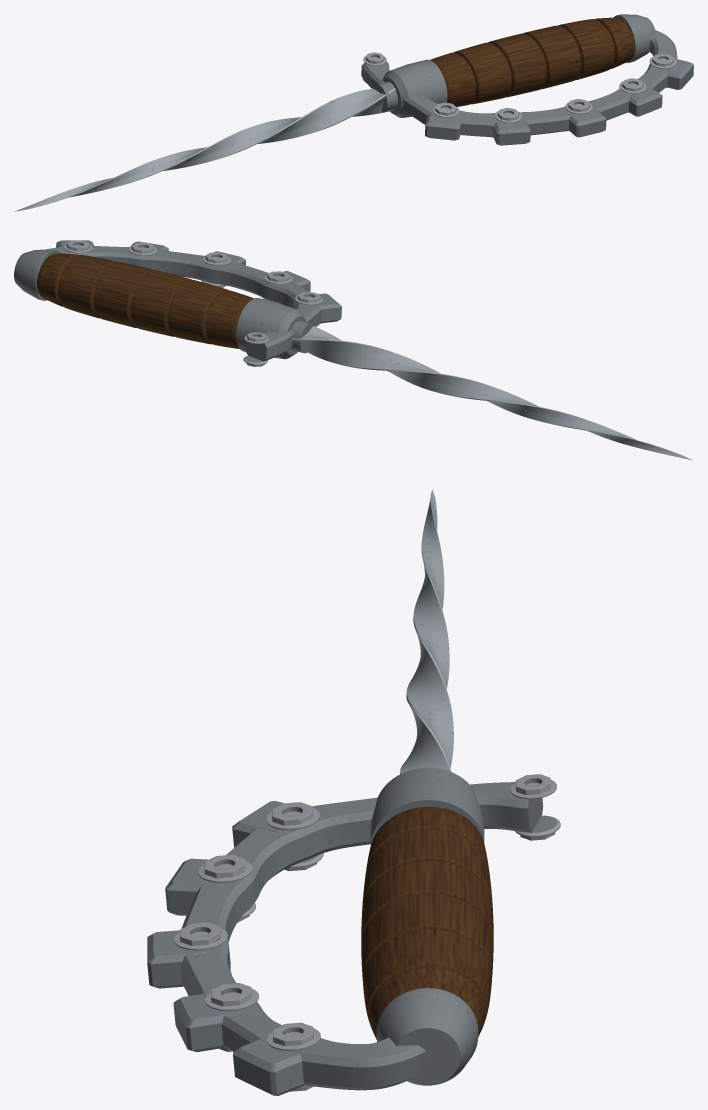
File: dagger-letter-opener-realistic-v6.glb
The picture shows the model from 3 angles, top to bottom: view 1: azimuth 30°, elevation 25°; view 2: azimuth 150°, elevation 25°; view 3: azimuth 270°, elevation 25°; orthographic projection. The views are drawn at different scales.
Visible parts, largest first — view 1: LetterOpener_Connected_Metal, LetterOpener_Solid_Carved_Wood, LetterOpener_Rivet_Hardware; view 2: LetterOpener_Connected_Metal, LetterOpener_Solid_Carved_Wood, LetterOpener_Rivet_Hardware; view 3: LetterOpener_Connected_Metal, LetterOpener_Solid_Carved_Wood, LetterOpener_Rivet_Hardware.
Boxes of the visible parts, x1,y1,x2,y2 form: LetterOpener_Connected_Metal: (15, 14, 693, 211); LetterOpener_Solid_Carved_Wood: (430, 17, 635, 106); LetterOpener_Rivet_Hardware: (362, 52, 676, 122); LetterOpener_Connected_Metal: (14, 240, 692, 460); LetterOpener_Solid_Carved_Wood: (37, 253, 253, 348); LetterOpener_Rivet_Hardware: (63, 240, 323, 366); LetterOpener_Connected_Metal: (147, 489, 543, 1095); LetterOpener_Solid_Carved_Wood: (361, 807, 493, 1039); LetterOpener_Rivet_Hardware: (173, 774, 560, 1091).
Bounding box in the file's own units: 0.2397 × 0.0182 × 0.0667.
Materials: 1 (1 with a texture image).
